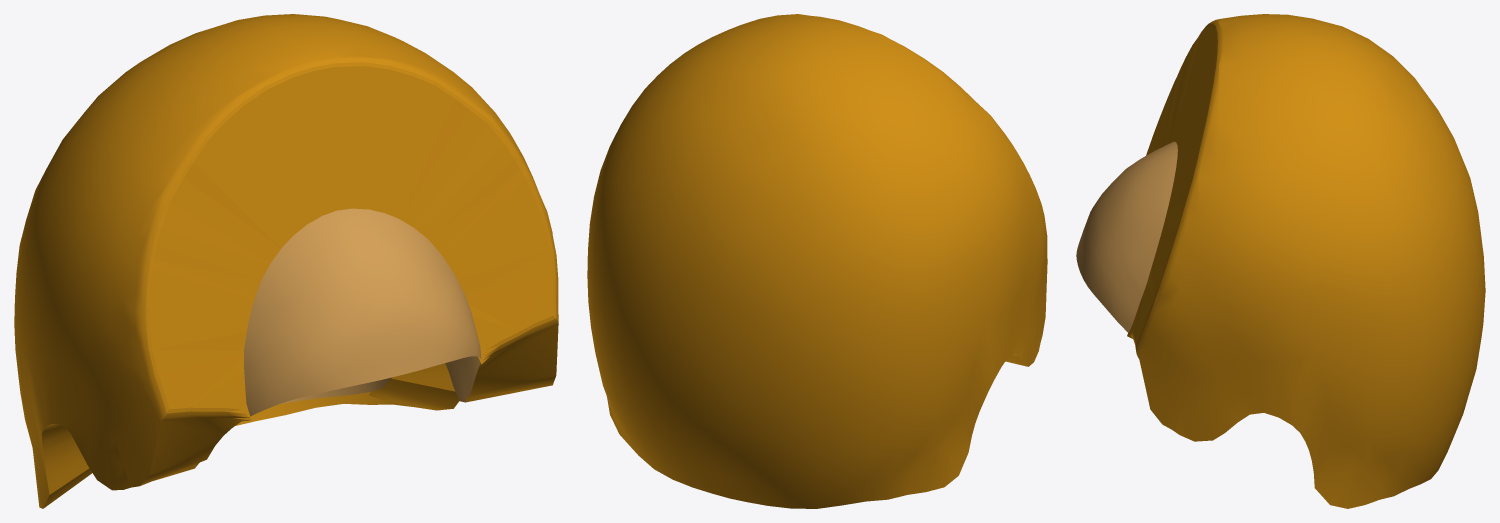
File: Lysina_alien.dae
The picture shows the model from 3 angles, left to right: view 1: azimuth 30°, elevation 25°; view 2: azimuth 150°, elevation 25°; view 3: azimuth 270°, elevation 25°; orthographic projection. The views are drawn at different scales.
Visible parts, largest first — view 1: Helmet, bald; view 2: Helmet; view 3: Helmet, bald.
Boxes of the visible parts, x1,y1,x2,y2 form: Helmet: [14, 14, 558, 508]; bald: [244, 208, 481, 416]; Helmet: [587, 14, 1047, 508]; Helmet: [1127, 14, 1485, 508]; bald: [1076, 141, 1177, 332].
Bounding box in the file's own units: 21.93 × 21.71 × 19.66.
